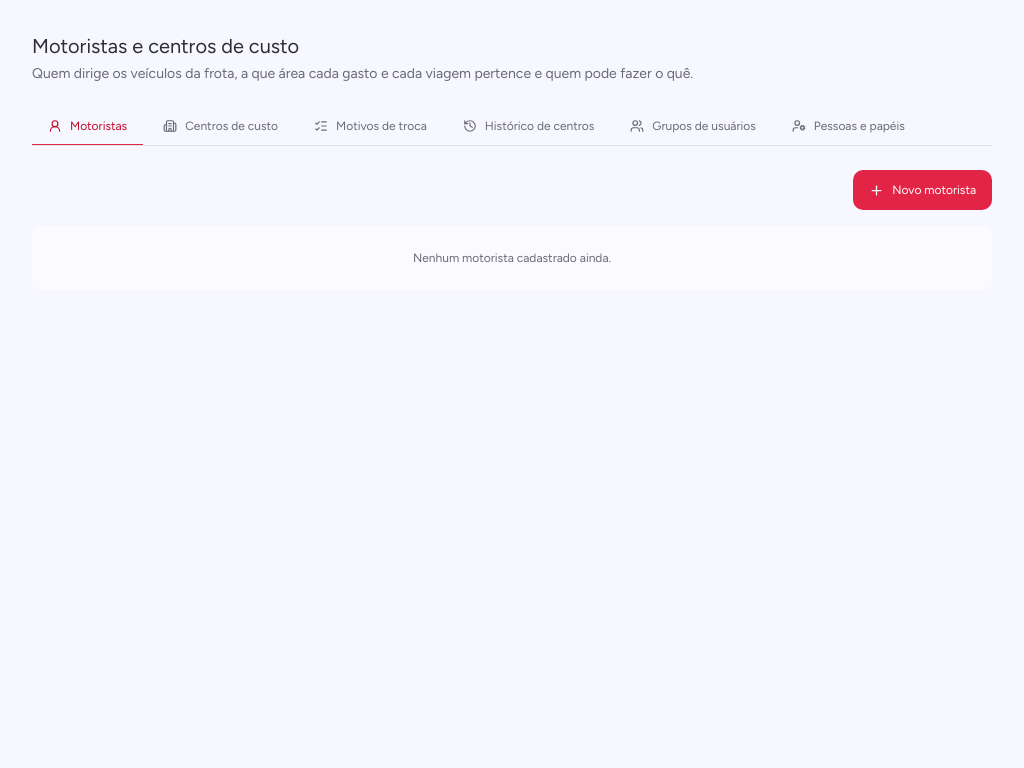
Pessoas e papéis › mostra a aba de pessoas para o administrador
Click the tab "Pessoas e papéis" at (848, 127), box [776,108,921,146]
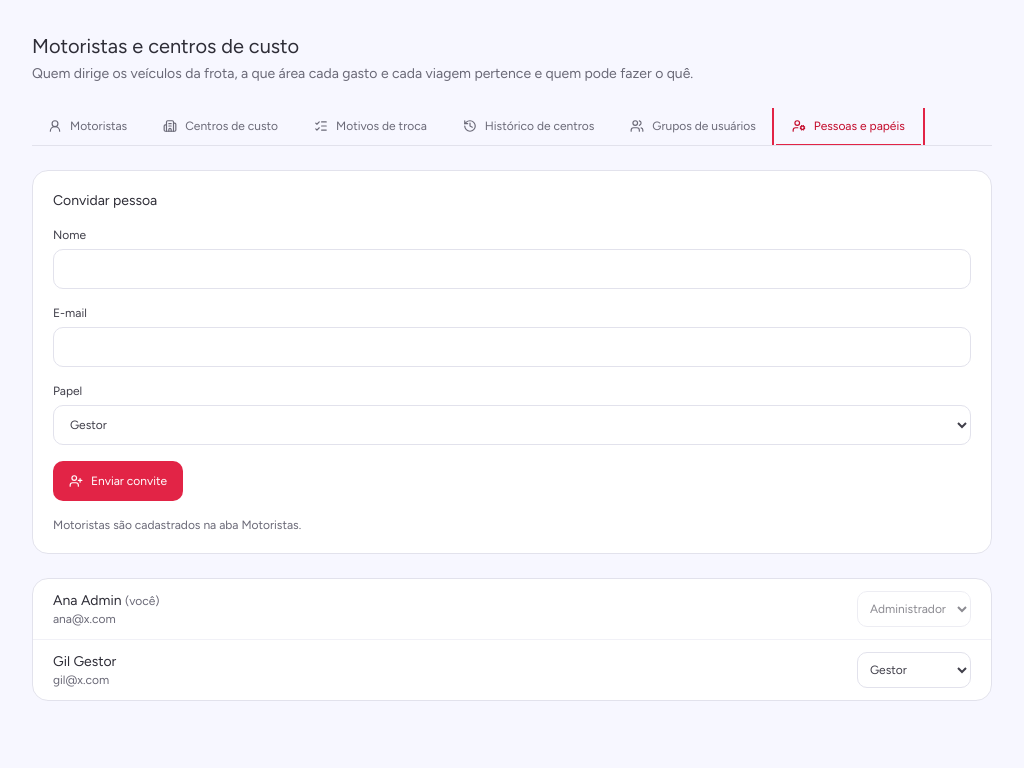
Now the text "Gil Gestor" is shown, box [53,652,116,672]
